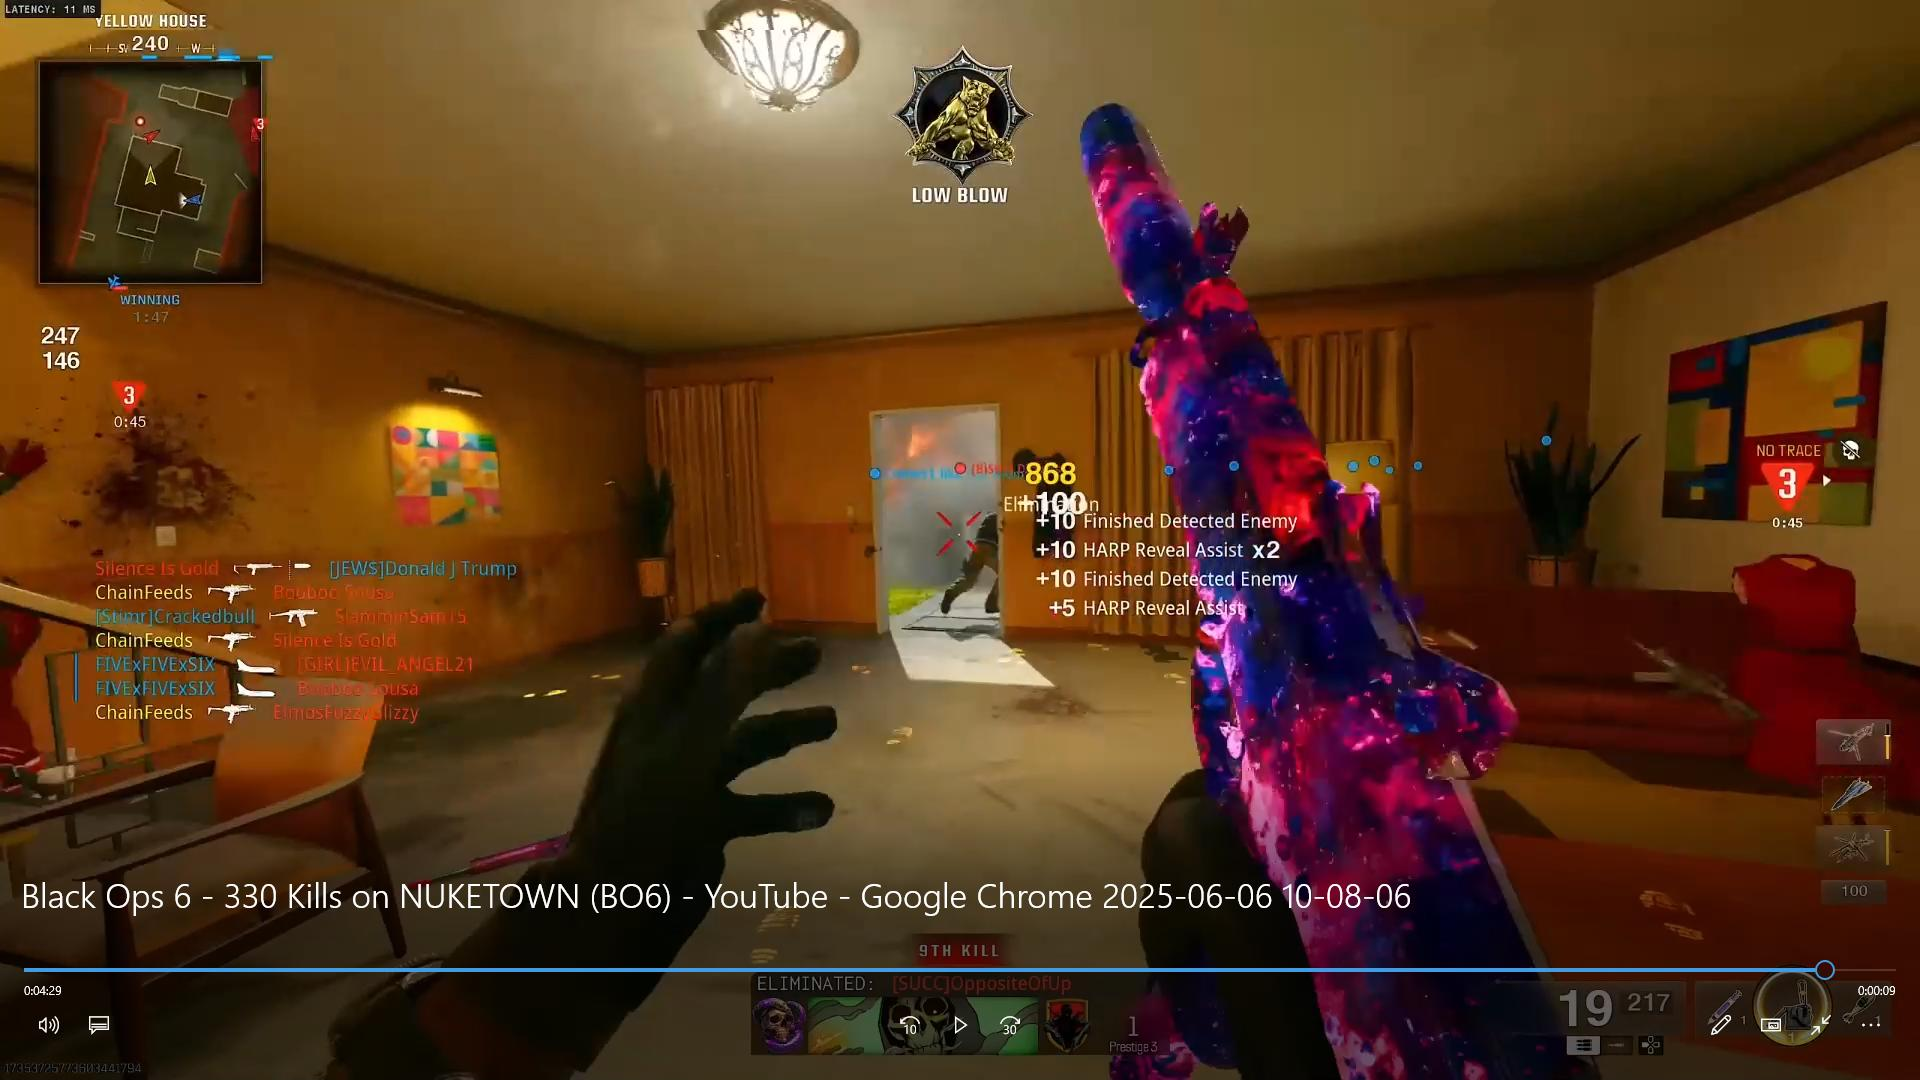Enemy: (957, 492, 1002, 613)
